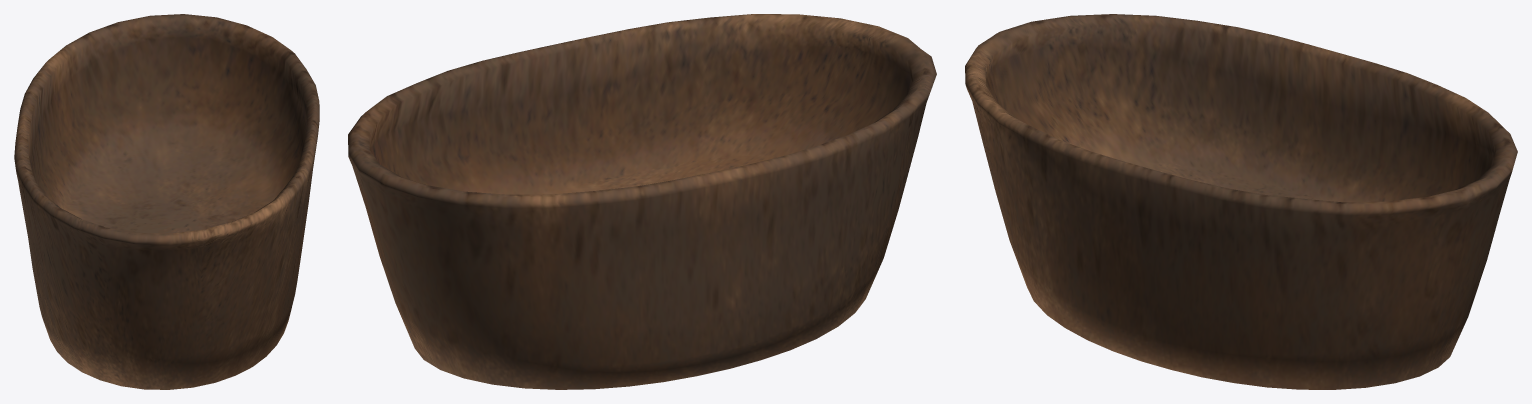
The model's file is B49_8Bol_deMadera.FBX.
3 renders of one model, left to right at view 1: azimuth 30°, elevation 25°; view 2: azimuth 150°, elevation 25°; view 3: azimuth 270°, elevation 25°, orthographic. The views are drawn at different scales.
Visible parts, largest first — view 1: 8.bol de madera; view 2: 8.bol de madera; view 3: 8.bol de madera.
Part boxes in pixels (<box>): 8.bol de madera: <box>14,14,319,389</box>; 8.bol de madera: <box>348,14,936,389</box>; 8.bol de madera: <box>965,14,1517,389</box>.
Bounding box in the file's own units: 11.6 × 5.91 × 13.95.
Materials: 1 (1 with a texture image).
